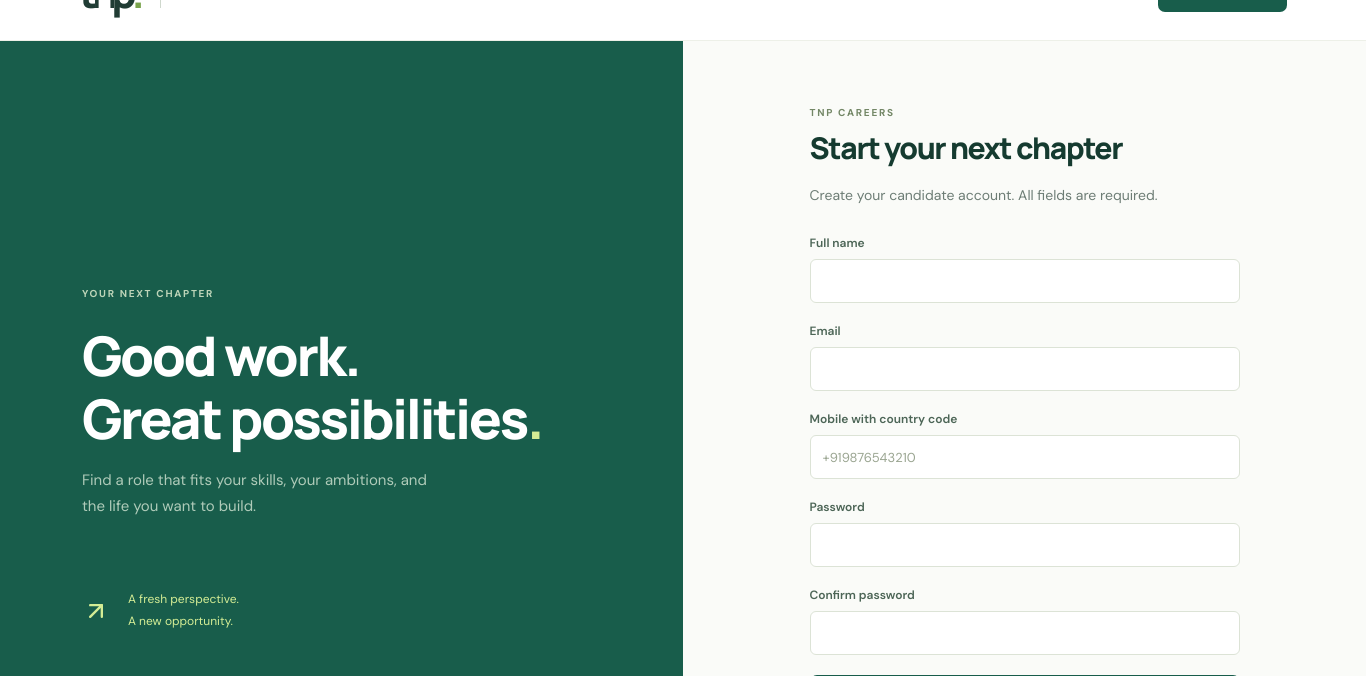
Test: requires both email and mobile during registration
In the field labelled "Full name": {"x": 1024, "y": 281} [810,259,1240,303], type "Candidate"
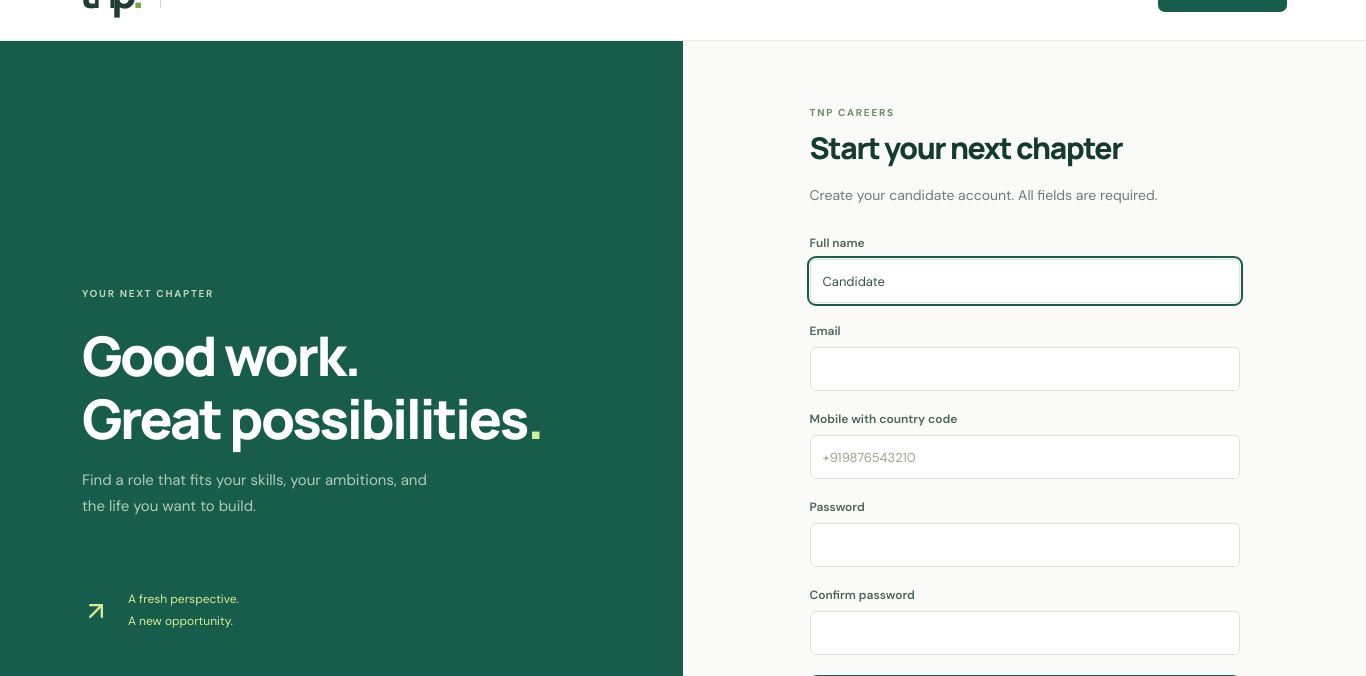
In the password field labelled "Password": {"x": 1024, "y": 545} [810,523,1240,567], type "a long passphrase"
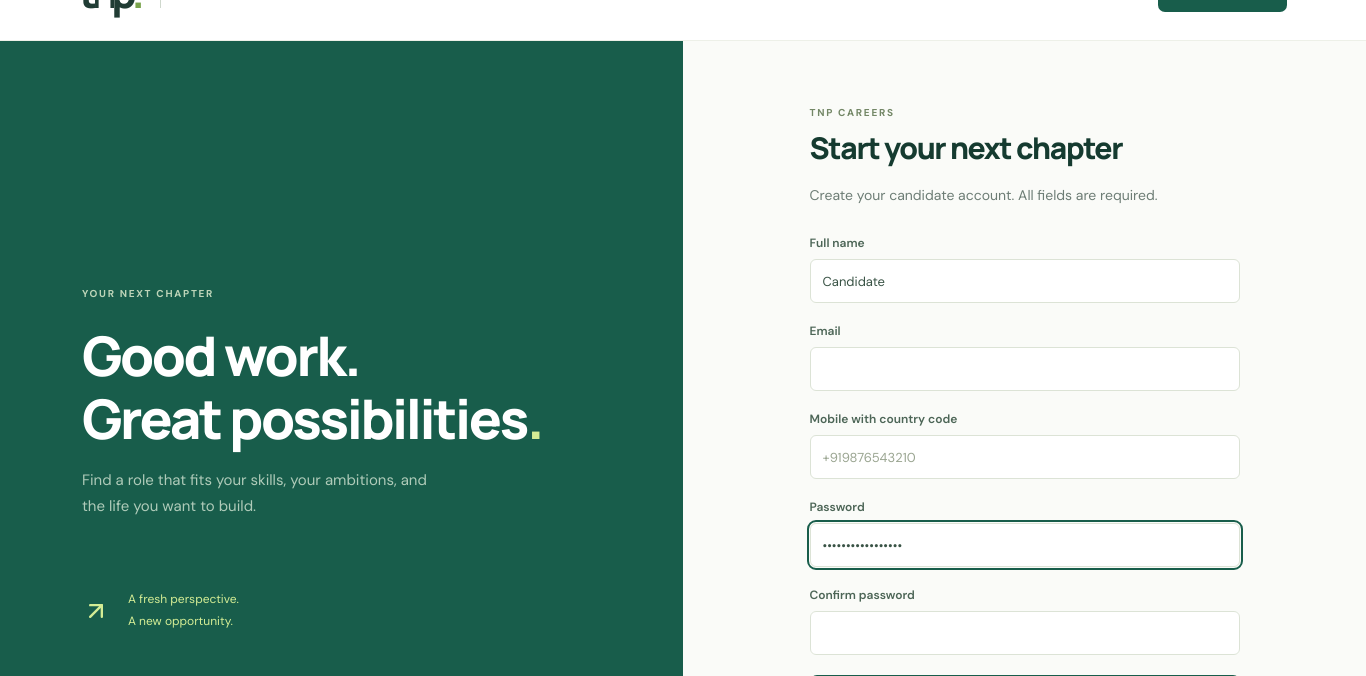
In the password field labelled "Confirm password": {"x": 1024, "y": 633} [810,611,1240,655], type "a long passphrase"
(page scrolled)
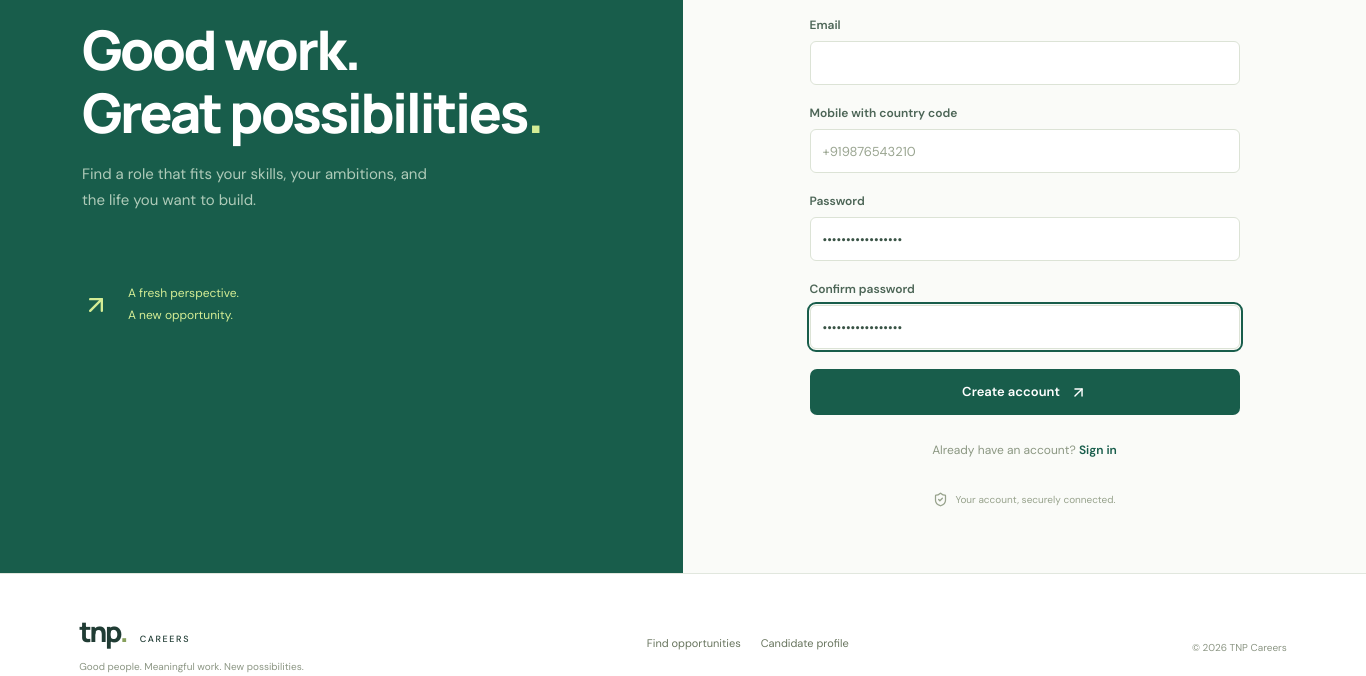
Click the button "Create account": {"x": 1024, "y": 392} [810,369,1240,415]
(page scrolled)
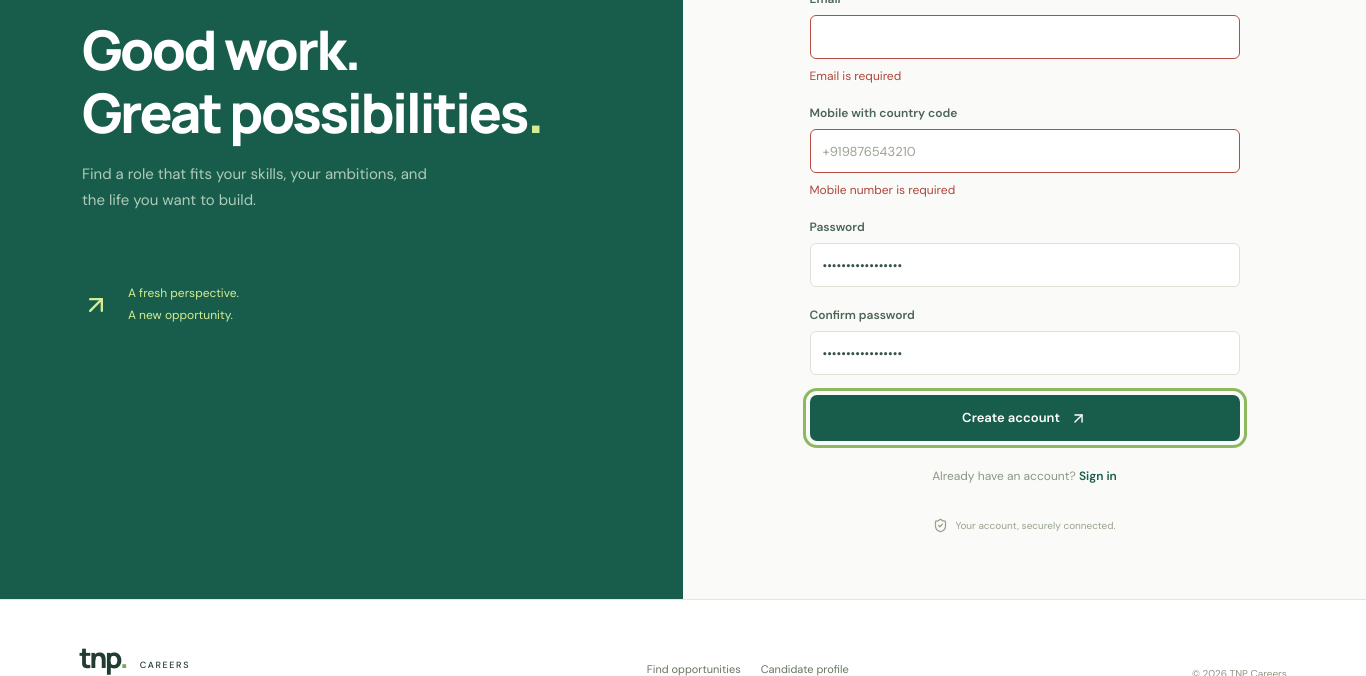
Now the text "Email is required" is shown, box [810,68,901,84]
Now the text "Mobile number is required" is shown, box [810,182,955,198]
